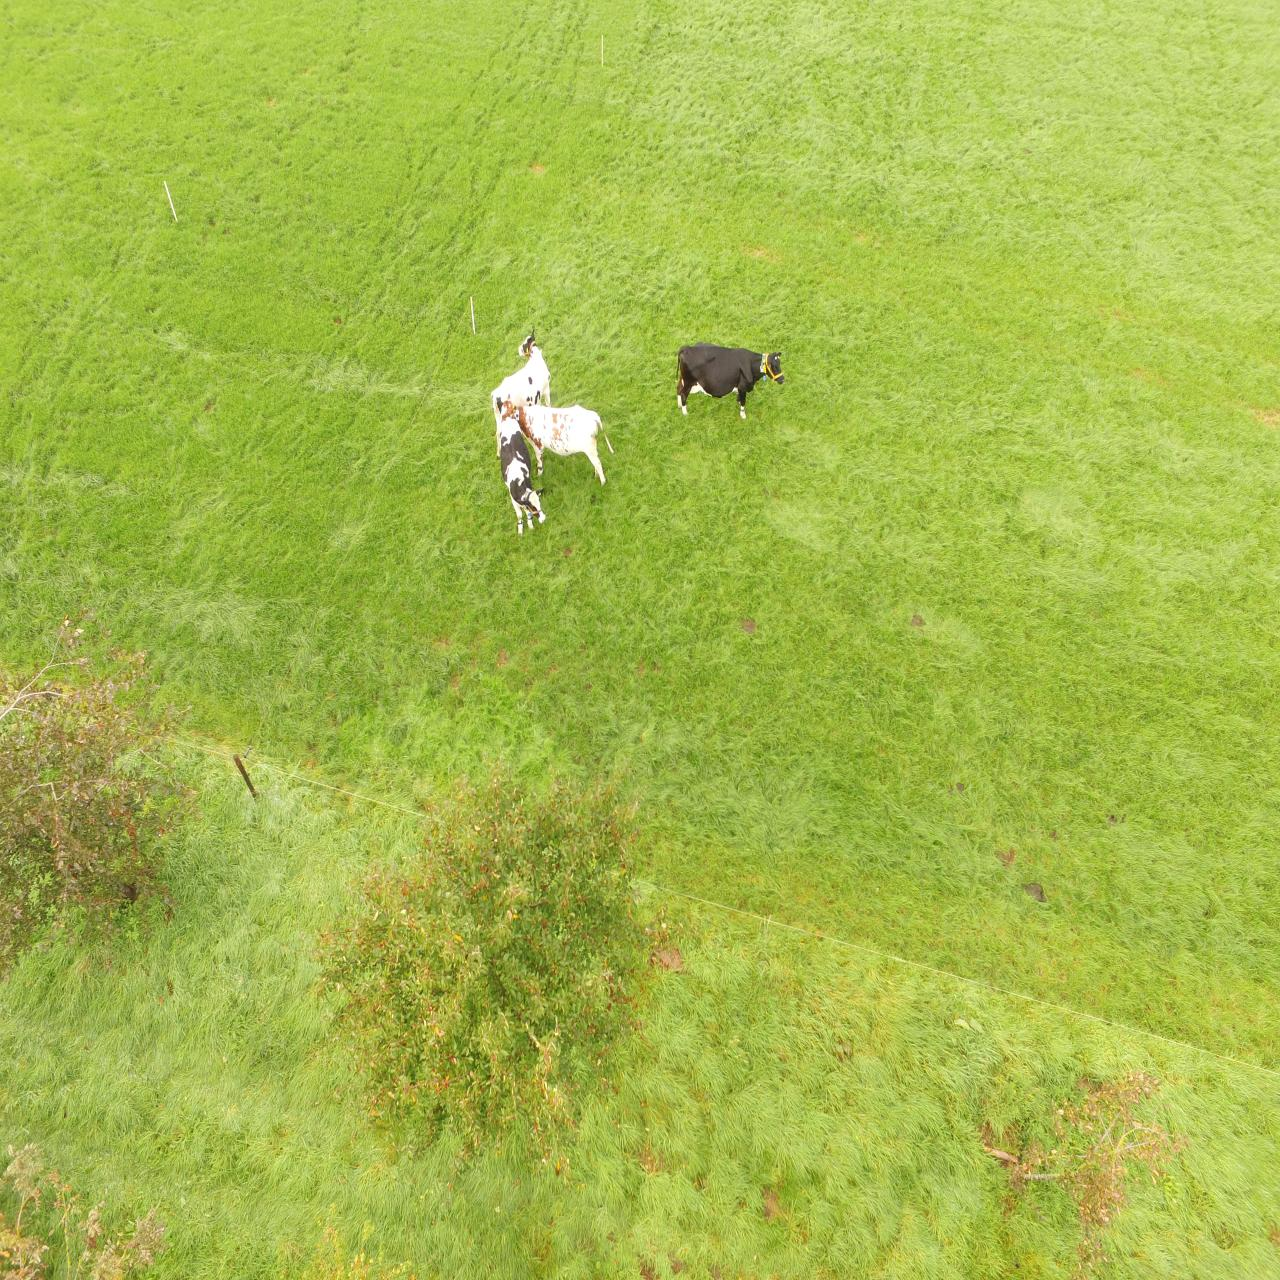cow: (499, 402, 607, 488), (673, 343, 787, 423), (490, 333, 557, 458), (496, 416, 546, 535)
